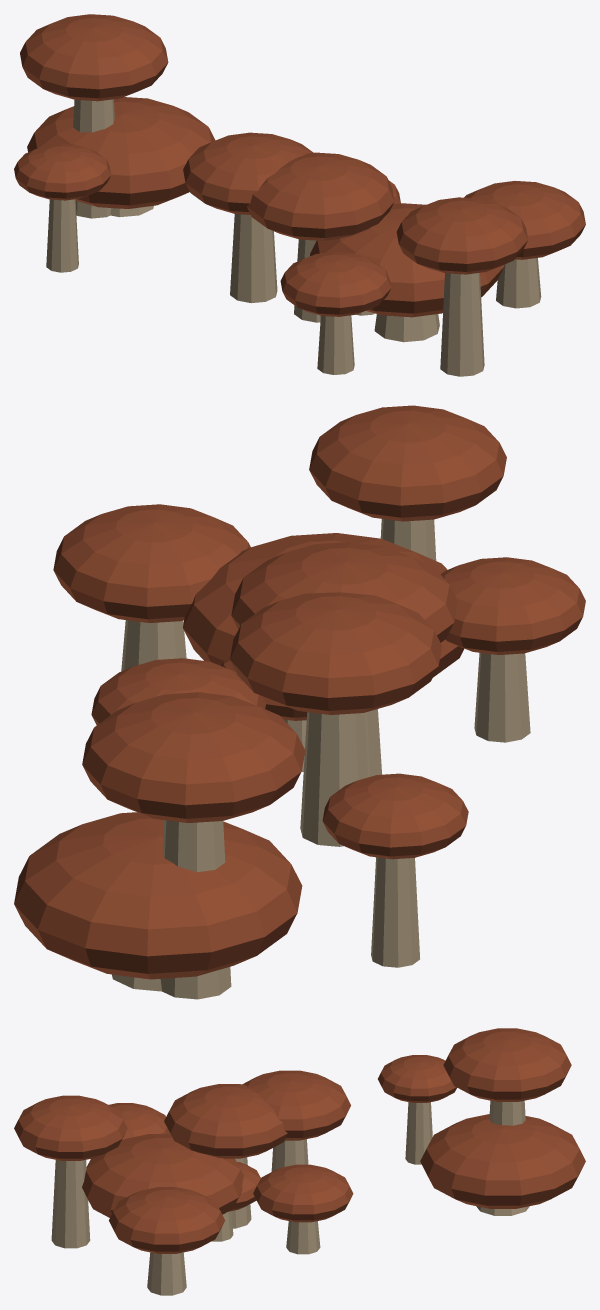
File: detail_mushrooms.glb
3 views of the same model, one above another, from view 1: azimuth 30°, elevation 25°; view 2: azimuth 150°, elevation 25°; view 3: azimuth 270°, elevation 25° (orthographic). The views are drawn at different scales.
Parts seen in each view (by area): view 1: Sphere.004, Sphere.010, Sphere.008, Sphere.003, Sphere.007, Sphere.009, Sphere.001, Sphere.002, Sphere.005, Cone.003, Cone.007, Cone.005 (+5 smaller); view 2: Sphere.004, Sphere.010, Sphere.007, Sphere.003, Sphere.002, Sphere.008, Sphere.001, Sphere.005, Sphere.009, Cone.007, Sphere, Cone.005 (+5 smaller); view 3: Sphere.004, Sphere.009, Sphere.010, Sphere.008, Sphere.002, Sphere.003, Sphere.007, Sphere, Cone.003, Sphere.005, Cone.002, Cone.005 (+6 smaller).
Part boxes in pixels (x1,y1,x2,y2): Sphere.004: (27, 97, 215, 208); Sphere.010: (20, 14, 168, 101); Sphere.008: (246, 152, 394, 240); Sphere.003: (396, 197, 528, 274); Sphere.007: (183, 132, 312, 214); Sphere.009: (310, 203, 504, 317); Sphere.001: (280, 252, 391, 316); Sphere.002: (464, 181, 585, 259); Sphere.005: (14, 143, 110, 200); Cone.003: (440, 273, 484, 376); Cone.007: (230, 214, 277, 303); Cone.005: (46, 199, 78, 272); Sphere.004: (14, 812, 302, 979); Sphere.010: (82, 692, 305, 822); Sphere.007: (230, 592, 441, 714); Sphere.003: (309, 405, 506, 521); Sphere.002: (53, 504, 250, 622); Sphere.008: (231, 542, 457, 642); Sphere.001: (441, 557, 585, 654); Sphere.005: (322, 773, 468, 859); Sphere.009: (183, 533, 463, 677); Cone.007: (300, 712, 368, 846); Sphere: (91, 658, 265, 725); Cone.005: (371, 857, 419, 967); Sphere.004: (420, 1114, 585, 1208); Sphere.009: (82, 1134, 243, 1217); Sphere.010: (443, 1028, 571, 1101); Sphere.008: (164, 1084, 287, 1158); Sphere.002: (109, 1187, 224, 1253); Sphere.003: (14, 1095, 127, 1160); Sphere.007: (242, 1070, 350, 1140); Sphere: (253, 1164, 353, 1222); Cone.003: (51, 1160, 90, 1248); Sphere.005: (378, 1055, 456, 1102); Cone.002: (147, 1252, 186, 1295); Cone.005: (405, 1102, 432, 1164).
Size of the model in its own units: 0.7371 by 0.3115 by 1.05.
